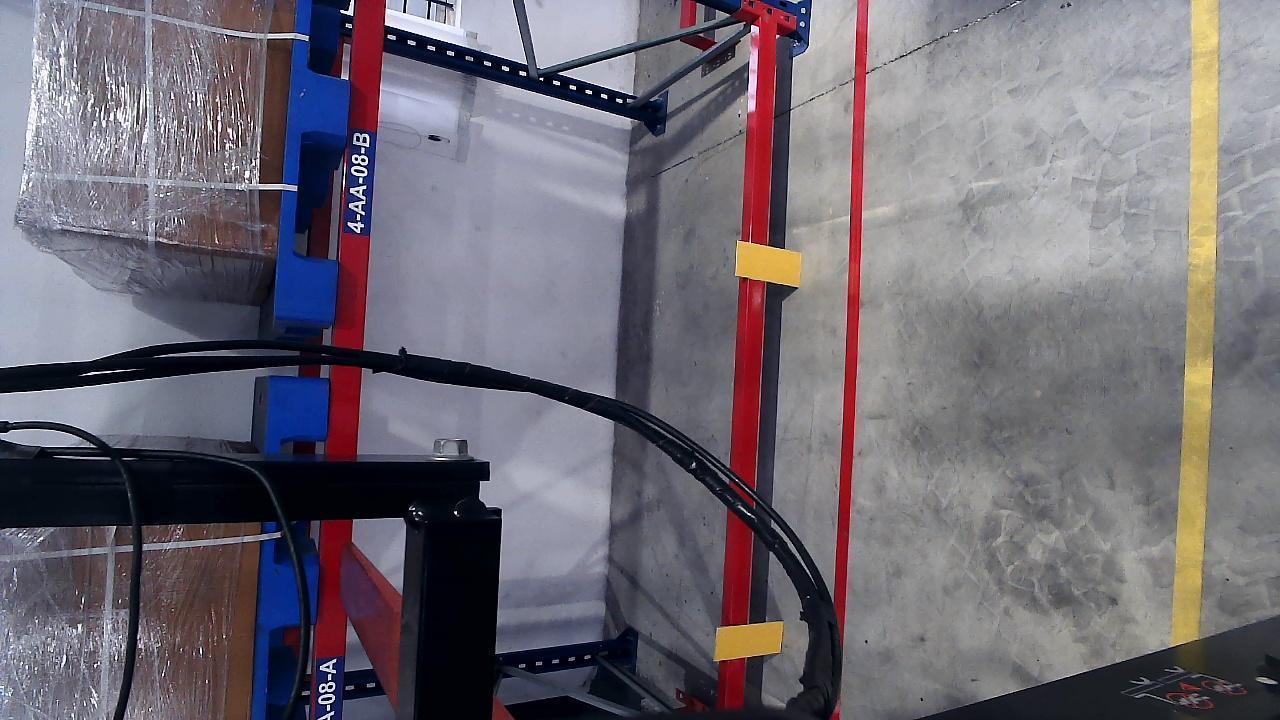red_line: (832, 10, 868, 626)
yellow_line: (1171, 4, 1219, 644)
